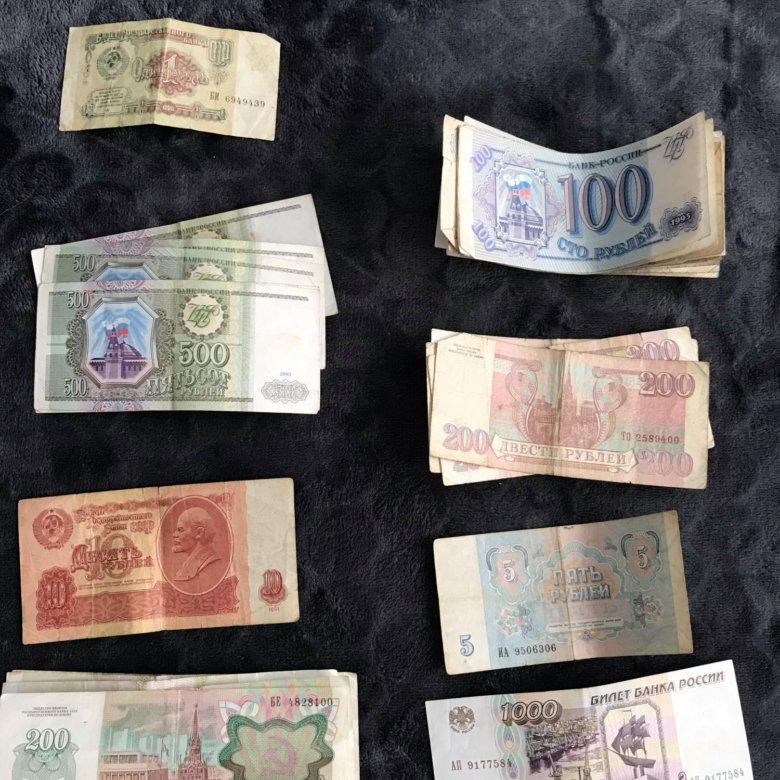cash: (17, 478, 299, 645), (432, 507, 695, 678), (430, 332, 709, 491), (454, 113, 706, 275), (424, 659, 754, 780), (32, 281, 321, 415), (1, 679, 356, 780), (57, 18, 281, 143), (40, 241, 322, 291)
